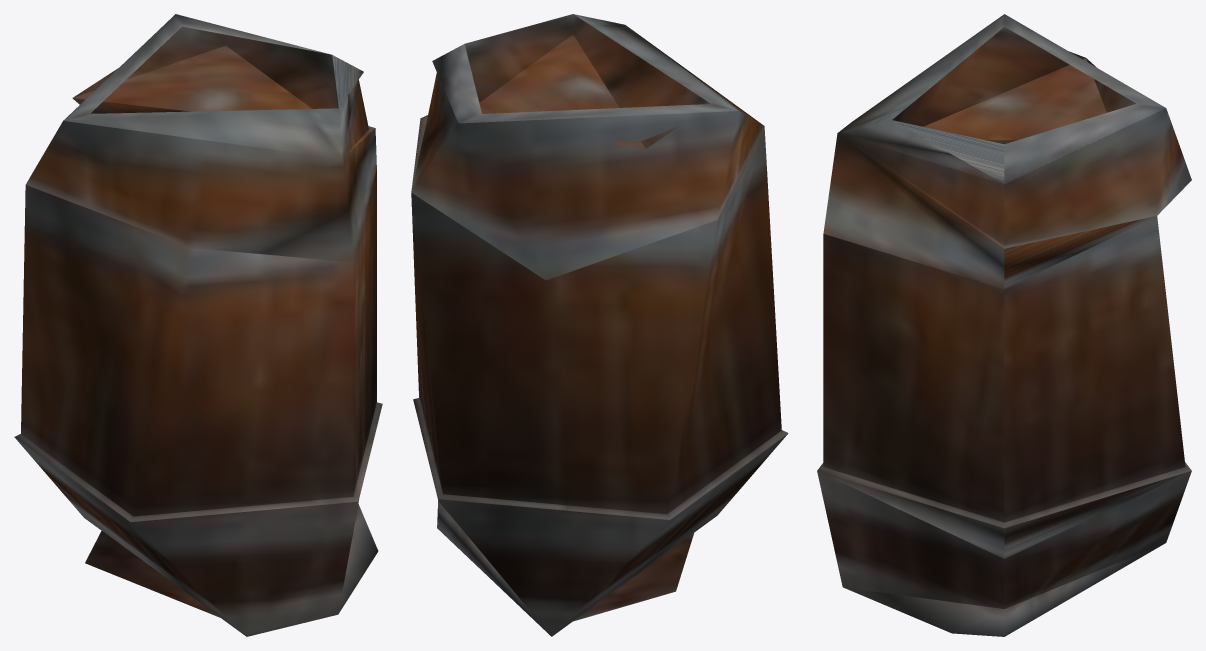
3 views of the same model, side by side, from view 1: azimuth 30°, elevation 25°; view 2: azimuth 150°, elevation 25°; view 3: azimuth 270°, elevation 25° (orthographic). The views are drawn at different scales.
Parts seen in each view (by area): view 1: barrel; view 2: barrel; view 3: barrel.
Boxes of the visible parts, x1,y1,x2,y2 form: barrel: (14, 14, 382, 636); barrel: (411, 14, 788, 636); barrel: (817, 14, 1191, 636).
Bounding box in the file's own units: 0.637 × 0.8954 × 0.634.
Materials: 1 (1 with a texture image).
